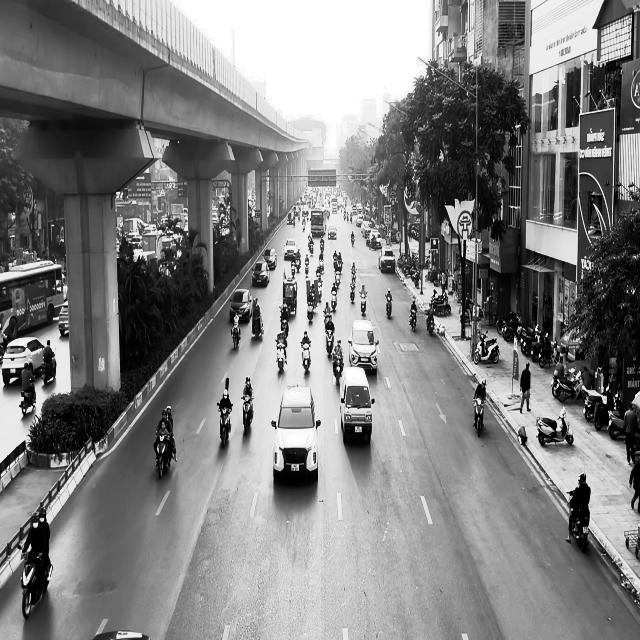bus: (0, 259, 68, 341)
car: (271, 383, 321, 482), (339, 366, 375, 444), (348, 319, 379, 374), (229, 288, 253, 322), (252, 261, 270, 287), (58, 301, 69, 336)
motorbike: (21, 549, 54, 619), (536, 406, 574, 446), (566, 492, 590, 552), (155, 431, 177, 479), (474, 329, 499, 364), (217, 402, 233, 448), (19, 377, 37, 416), (42, 348, 57, 384), (473, 396, 486, 437), (242, 393, 254, 435), (276, 342, 288, 373), (333, 354, 344, 386), (252, 312, 264, 339), (302, 341, 312, 373), (231, 321, 241, 350), (326, 328, 335, 358), (409, 309, 417, 332), (360, 291, 368, 314), (386, 294, 392, 318)
